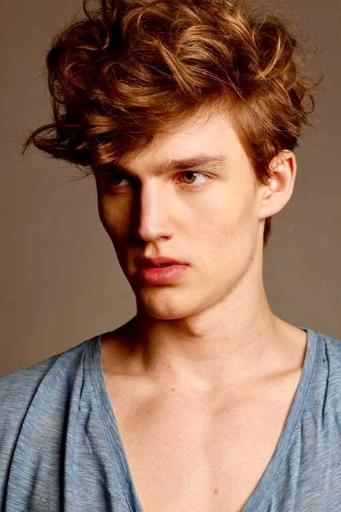left_eye: (173, 169, 222, 190)
left_lip_corner: (183, 258, 196, 275)
right_eye: (106, 169, 134, 191)
right_lip_corner: (134, 261, 151, 274)
